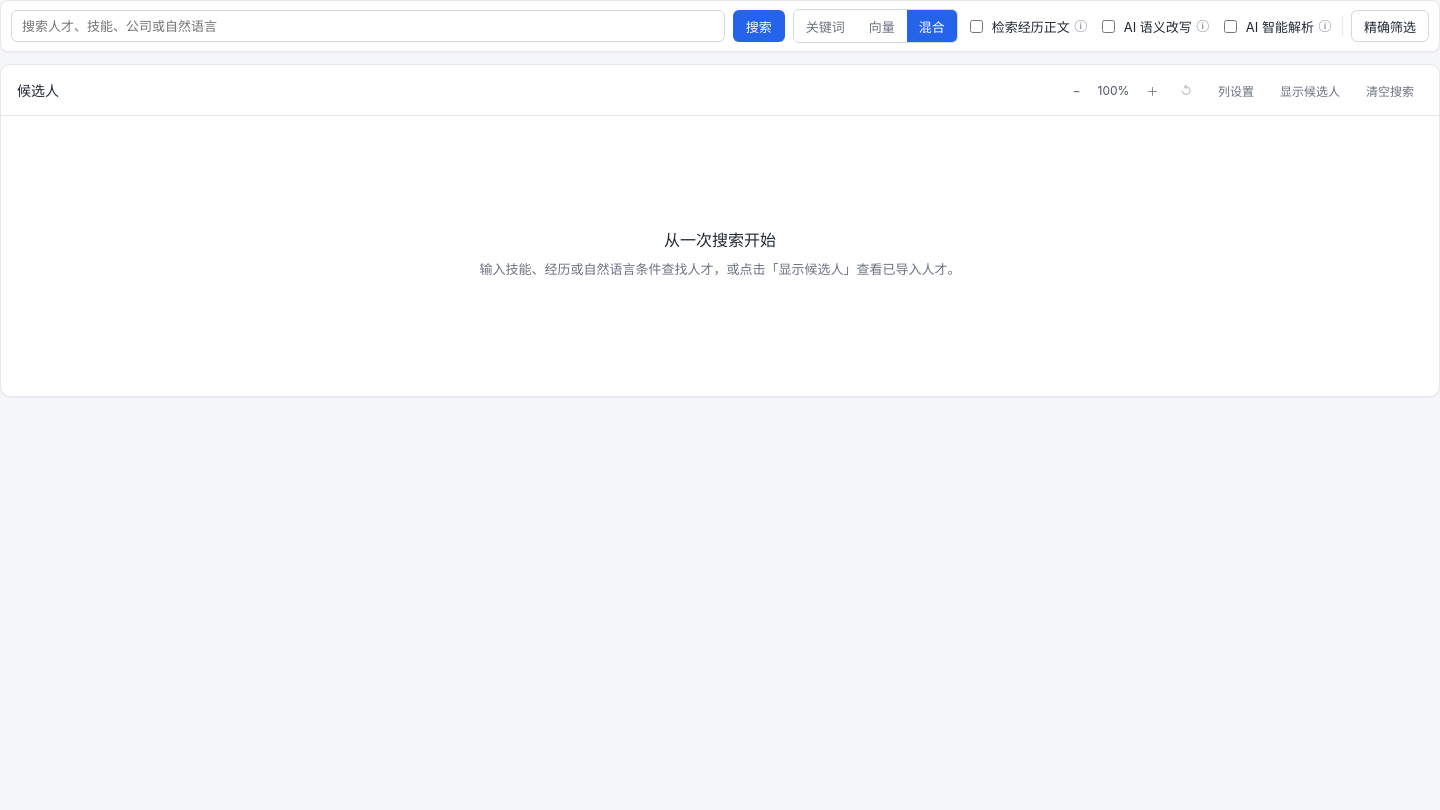
展开后左列是大类，点大类才在右侧弹出它的细分
The width and height of the screenshot is (1440, 810).
Click the button "精确筛选": (1390, 26) x1=1351 y1=10 x2=1429 y2=42
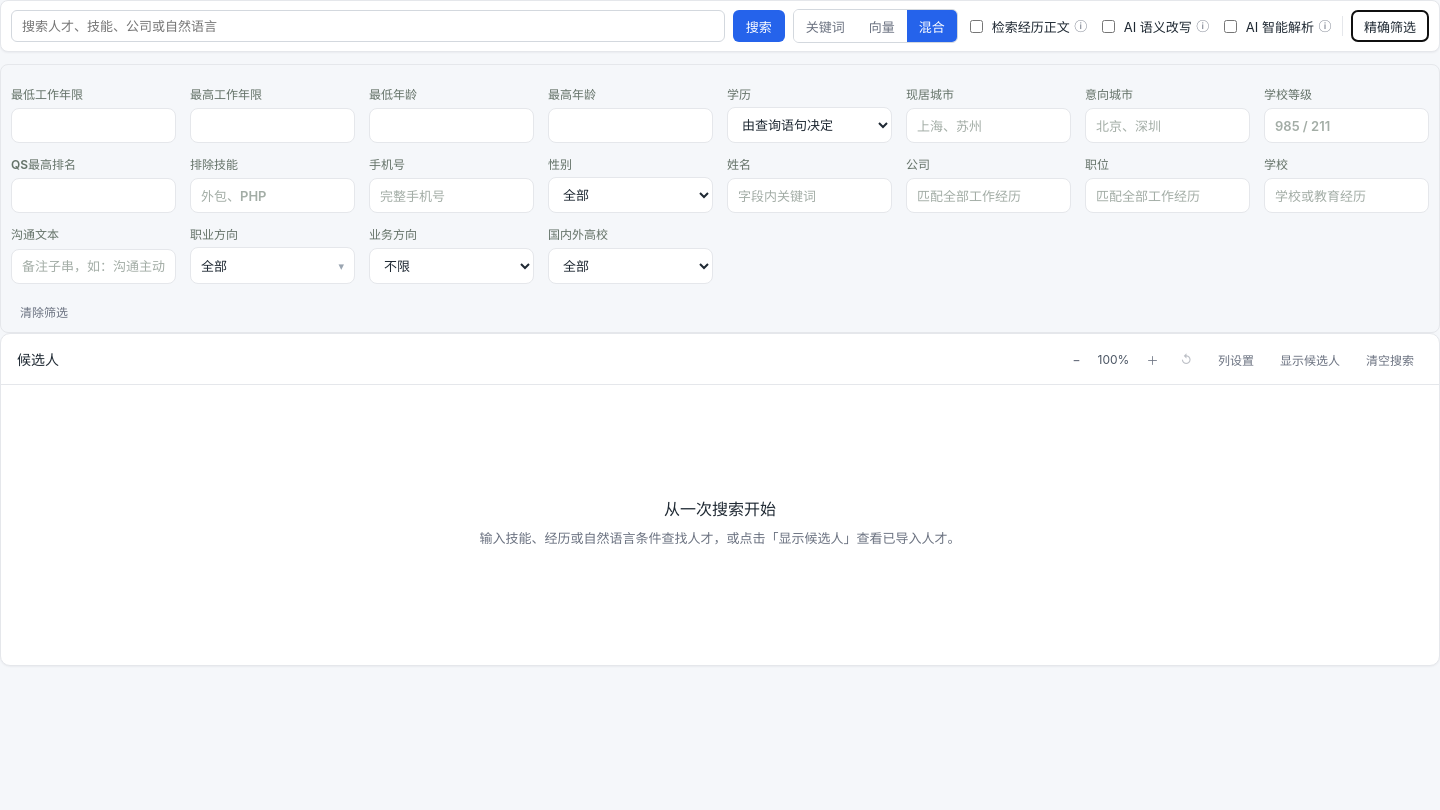
Click the button with aria-label "职业方向": (272, 266) x1=190 y1=247 x2=355 y2=284
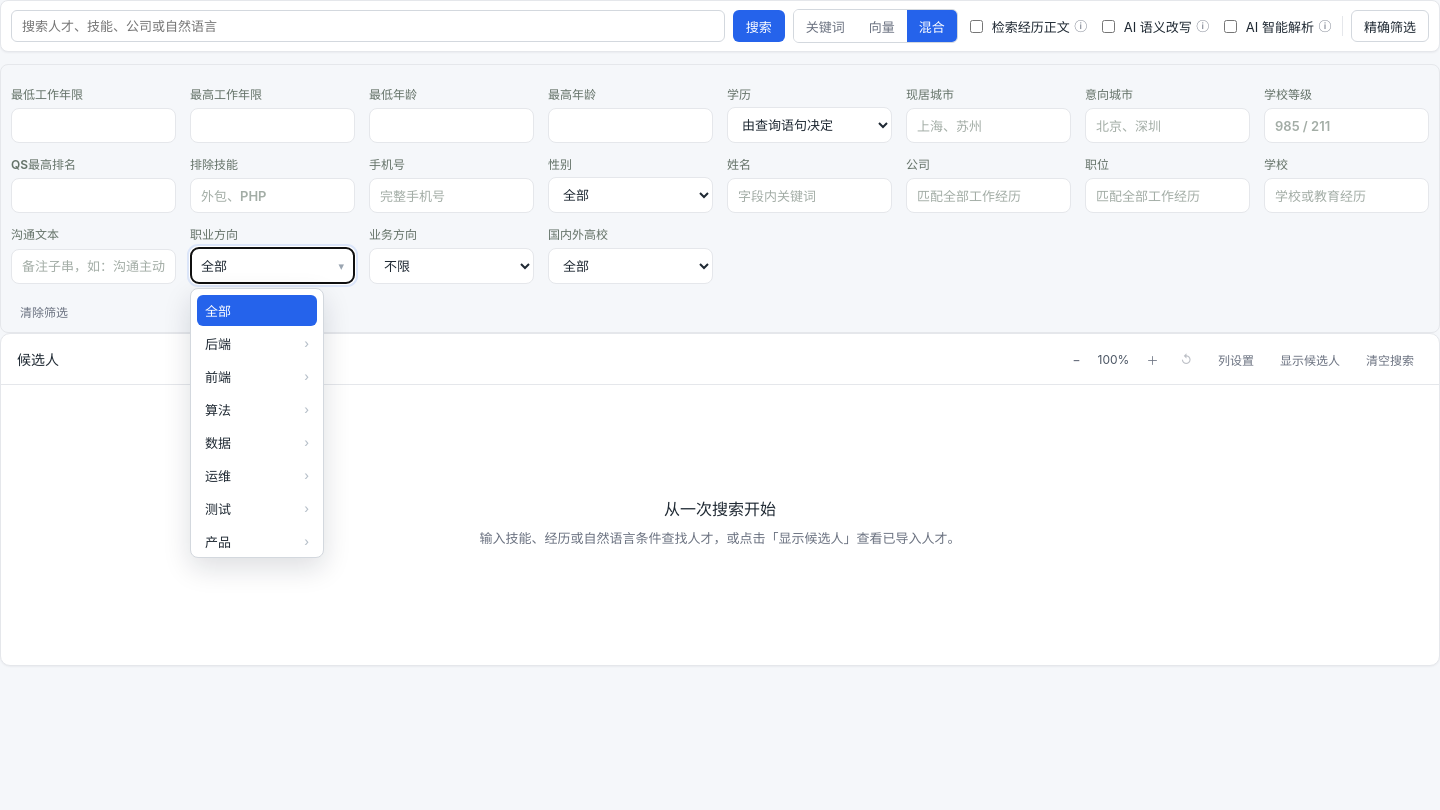
Expected: the button "后端 ›" is shown
Expected: the button "前端 ›" is shown, x1=197 y1=361 x2=317 y2=392
Expected: the button "算法 ›" is shown, x1=197 y1=394 x2=317 y2=425
Click the button "后端 ›": (257, 344) x1=197 y1=328 x2=317 y2=359
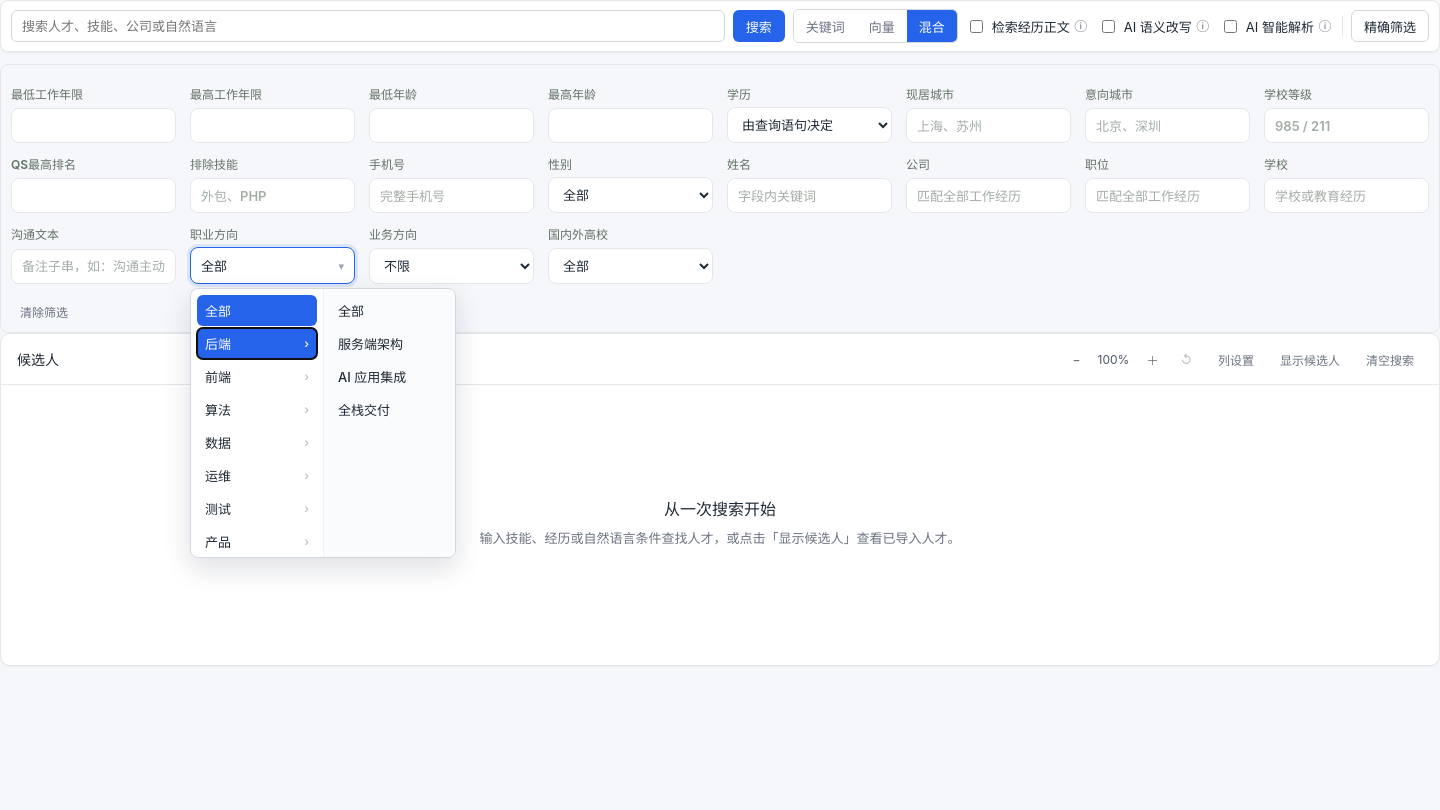
Expected: the button "服务端架构" is shown, x1=330 y1=328 x2=449 y2=359
Expected: the button "全栈交付" is shown, x1=330 y1=394 x2=449 y2=425
Expected: the button with aria-label "后端（不限细分）" is shown, x1=330 y1=295 x2=449 y2=326
